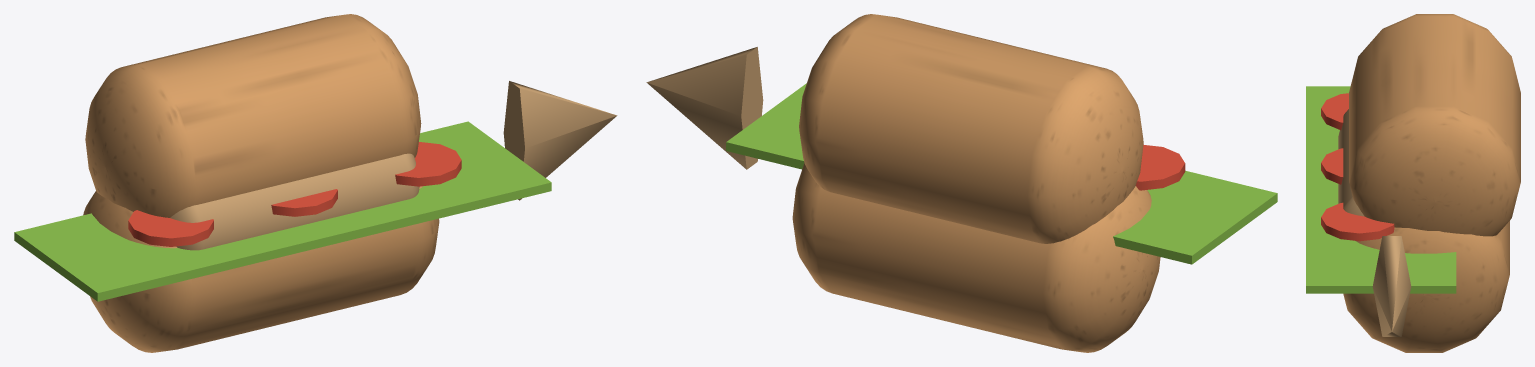
File: balik-ekmek.glb
3 views of the same model, side by side, from view 1: azimuth 30°, elevation 25°; view 2: azimuth 150°, elevation 25°; view 3: azimuth 270°, elevation 25° (orthographic). The views are drawn at different scales.
Visible parts, largest first — view 1: balik-ekmek; view 2: balik-ekmek; view 3: balik-ekmek.
Part boxes in pixels (x1,y1,x2,y2): balik-ekmek: (14,14,617,352); balik-ekmek: (646,14,1277,352); balik-ekmek: (1306,14,1520,352).
Size of the model in its own units: 0.275 by 0.123 by 0.1.
5 materials, 1 textured.
